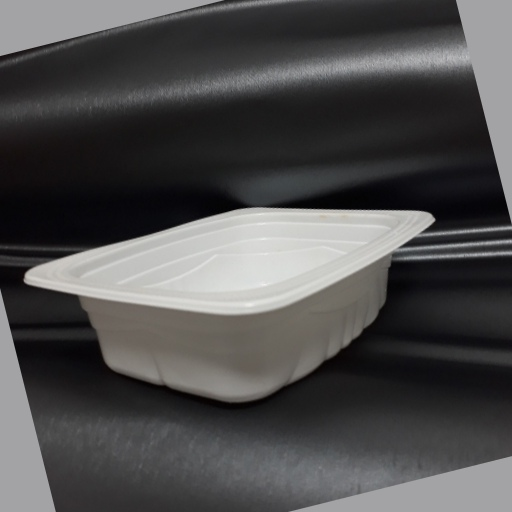Plastic_4: (14, 205, 435, 401)
